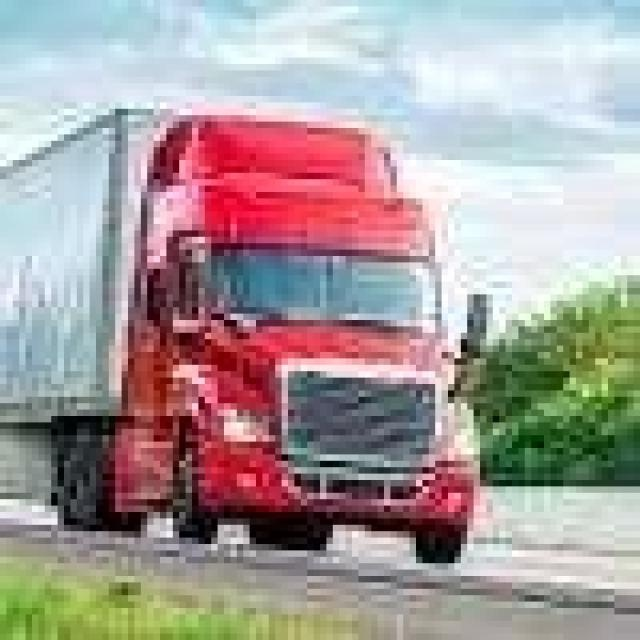Truck: (0, 96, 493, 576)
